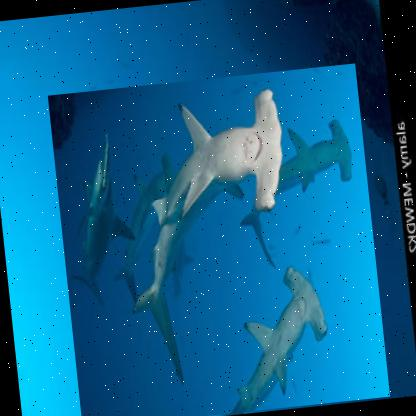hammerhead_Shark: (46, 62, 390, 415)
